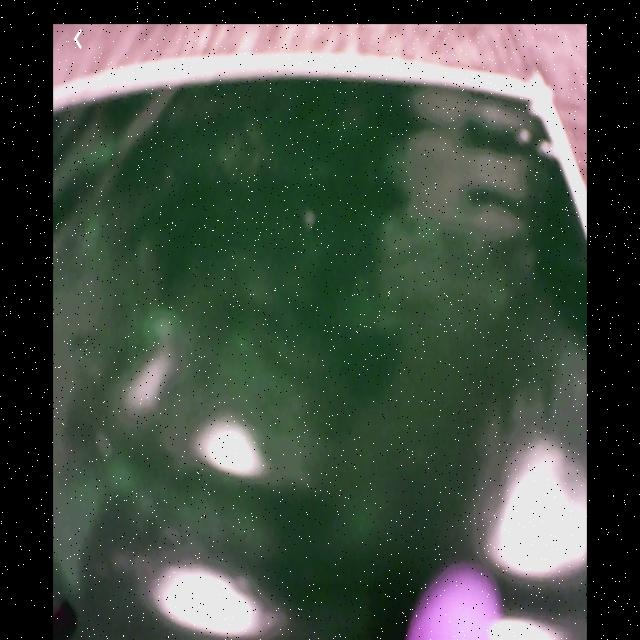ball: (406, 562, 505, 639)
